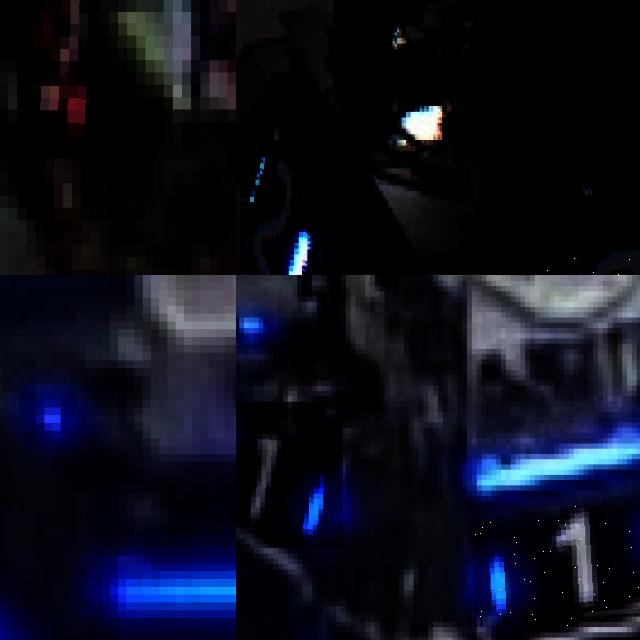B1: (474, 506, 640, 626), (236, 401, 343, 548)
B2: (240, 145, 317, 275)
R3: (17, 0, 99, 158)
